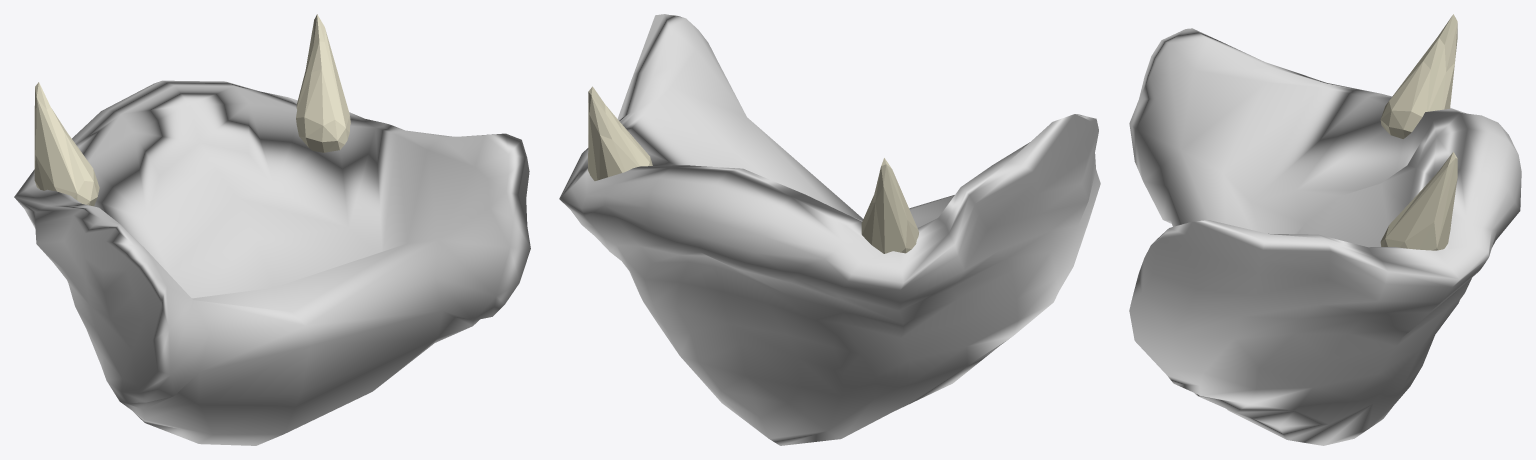
Rendered from OrcJawFat1.fbx.
3 views of the same model, side by side, from view 1: azimuth 30°, elevation 25°; view 2: azimuth 150°, elevation 25°; view 3: azimuth 270°, elevation 25° (orthographic). The views are drawn at different scales.
Parts seen in each view (by area): view 1: Jaw2, teeth2; view 2: Jaw2, teeth2; view 3: Jaw2, teeth2.
Part boxes in pixels (x1=…): Jaw2: x1=14, y1=80, x2=530, y2=445; teeth2: x1=34, y1=14, x2=350, y2=206; Jaw2: x1=559, y1=14, x2=1100, y2=445; teeth2: x1=588, y1=86, x2=918, y2=253; Jaw2: x1=1129, y1=28, x2=1521, y2=445; teeth2: x1=1380, y1=14, x2=1457, y2=250.
Bounding box in the file's own units: 0.1627 × 0.1289 × 0.1304.
